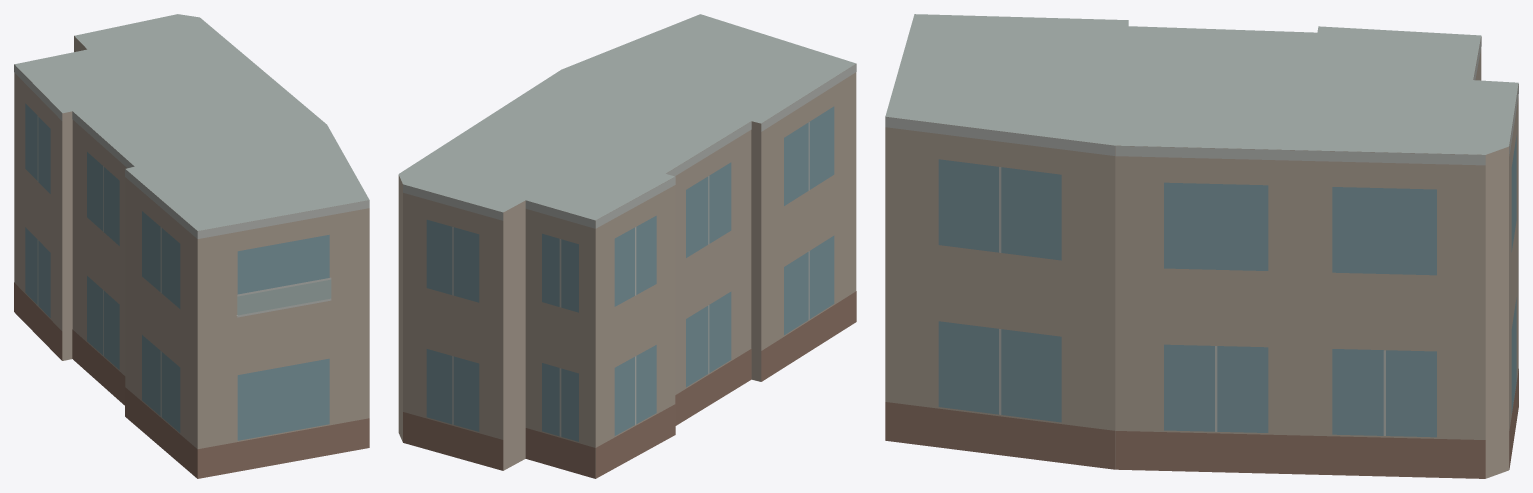
Rendered from survey-upis-32490939.glb.
The picture shows the model from 3 angles, left to right: view 1: azimuth 30°, elevation 25°; view 2: azimuth 150°, elevation 25°; view 3: azimuth 270°, elevation 25°; orthographic projection. The views are drawn at different scales.
Parts seen in each view (by area): view 1: survey-upis-32490939.tmp; view 2: survey-upis-32490939.tmp; view 3: survey-upis-32490939.tmp.
Part boxes in pixels (left/top/right/bottom): survey-upis-32490939.tmp: left=14, top=14, right=369, bottom=478; survey-upis-32490939.tmp: left=398, top=14, right=856, bottom=478; survey-upis-32490939.tmp: left=885, top=14, right=1518, bottom=478.
Size of the model in its own units: 7 by 7.5 by 13.3.
